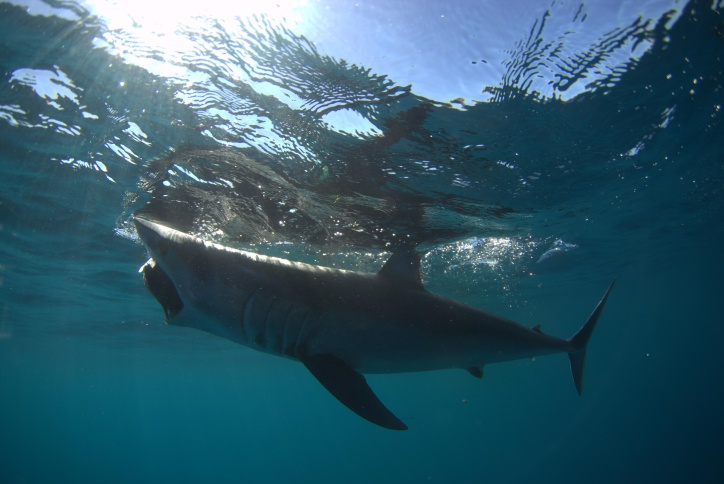Mako: (103, 205, 626, 442)
